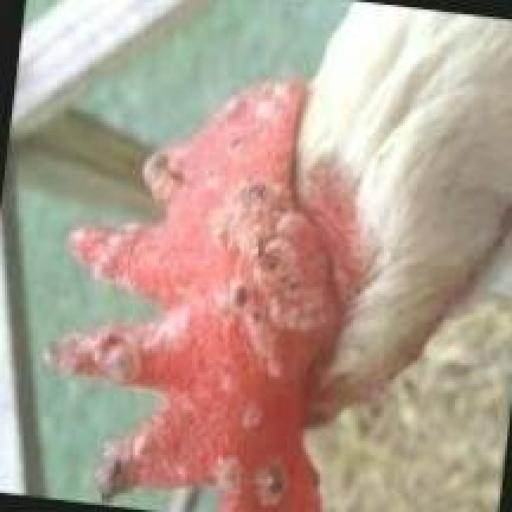disease: (206, 188, 337, 364), (62, 323, 197, 404), (71, 229, 168, 292), (100, 434, 167, 497), (201, 454, 292, 500), (231, 89, 285, 145), (221, 370, 270, 429), (142, 152, 192, 206)
